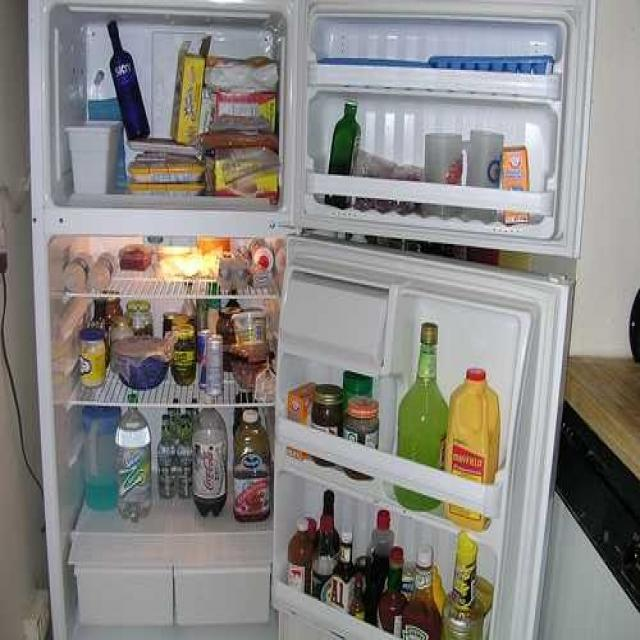refrigerator: (28, 0, 560, 640)
